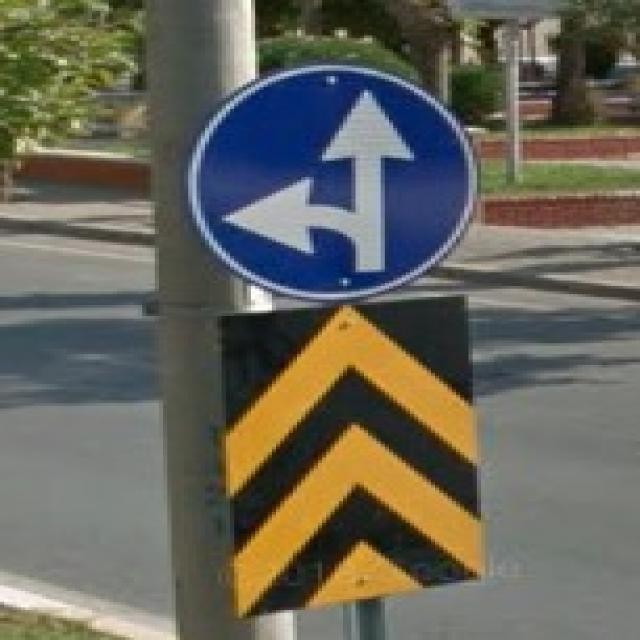Straight or Left: (189, 65, 482, 302)
